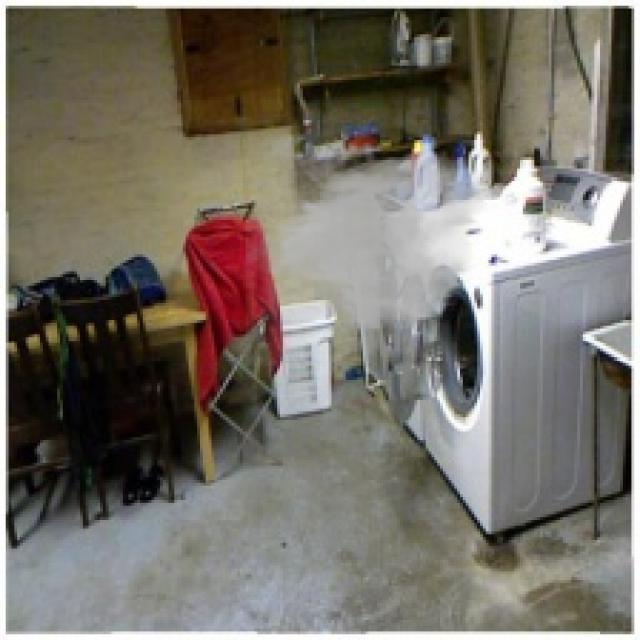Smoke: (246, 126, 488, 366)
